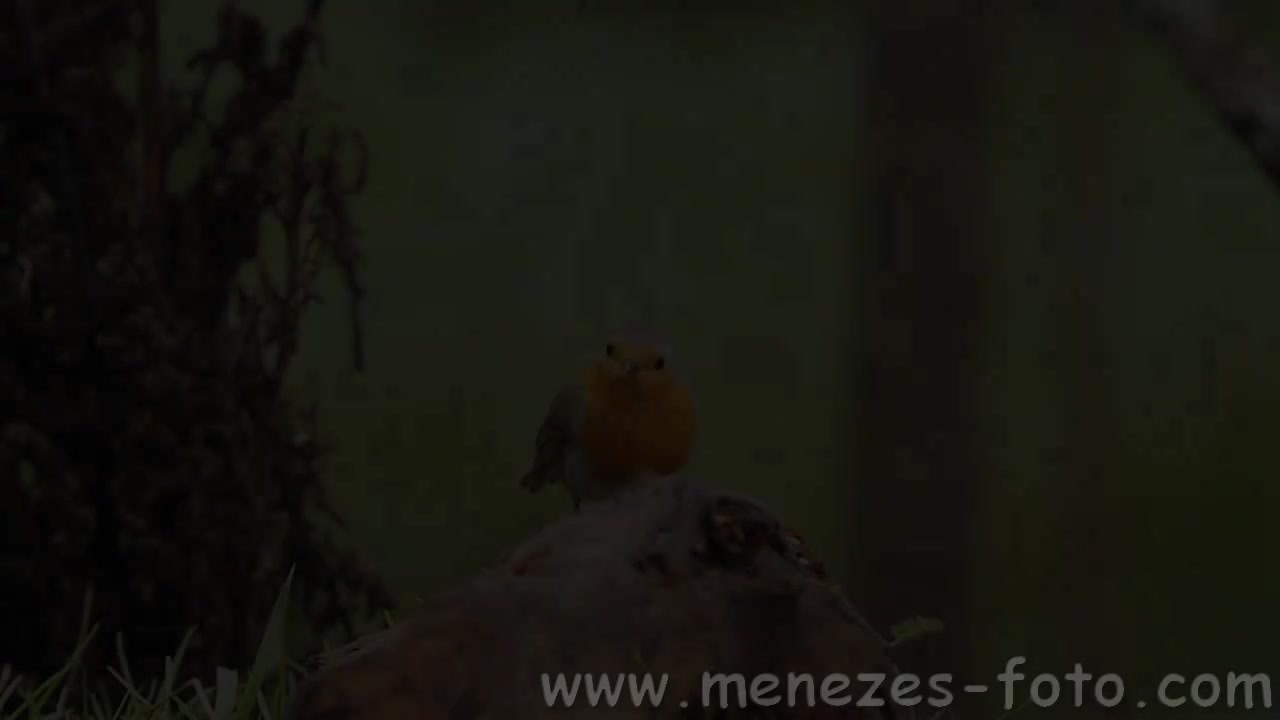bird: (519, 336, 703, 517)
